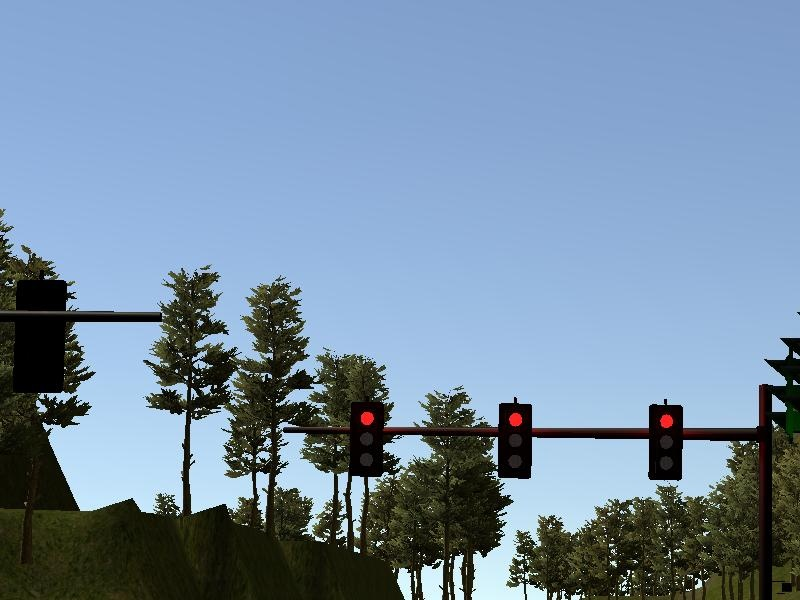red: (646, 402, 683, 481), (496, 402, 533, 480), (347, 400, 384, 477)
